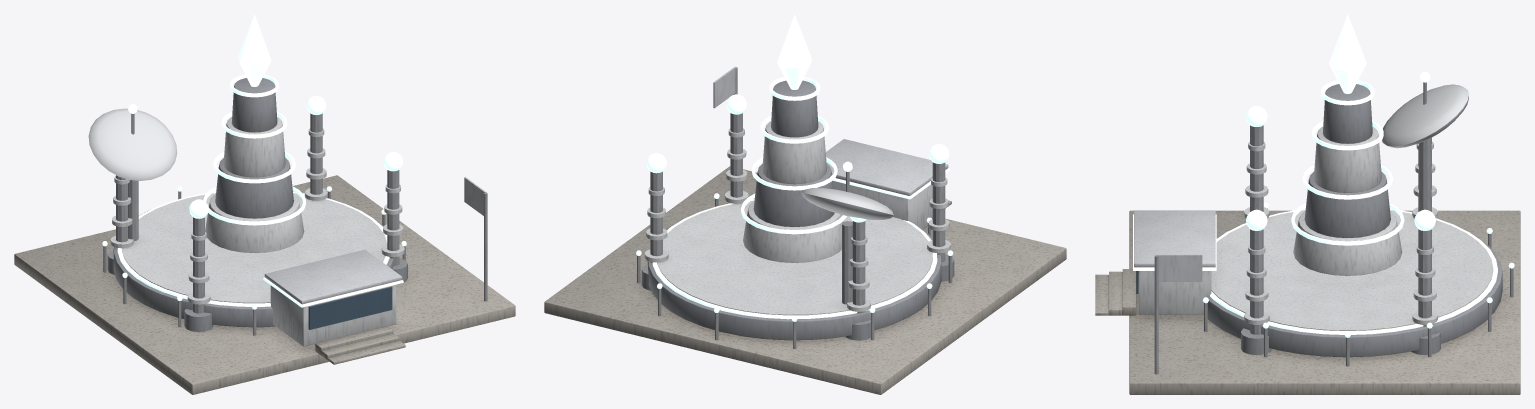
Rendered from west_super.glb.
3 views of the same model, side by side, from view 1: azimuth 30°, elevation 25°; view 2: azimuth 150°, elevation 25°; view 3: azimuth 270°, elevation 25° (orthographic). The views are drawn at different scales.
Visible parts, largest first — view 1: Hull, Spin; view 2: Hull, Spin; view 3: Hull, Spin.
Part boxes in pixels (x1,y1,x2,y2): Hull: (14,14,515,394); Spin: (88,104,177,180); Hull: (544,14,1066,394); Spin: (802,161,893,219); Hull: (1095,14,1520,394); Spin: (1382,71,1468,148).
Bounding box in the file's own units: 9 × 7.15 × 9.35.
Materials: 11 (8 with a texture image).
